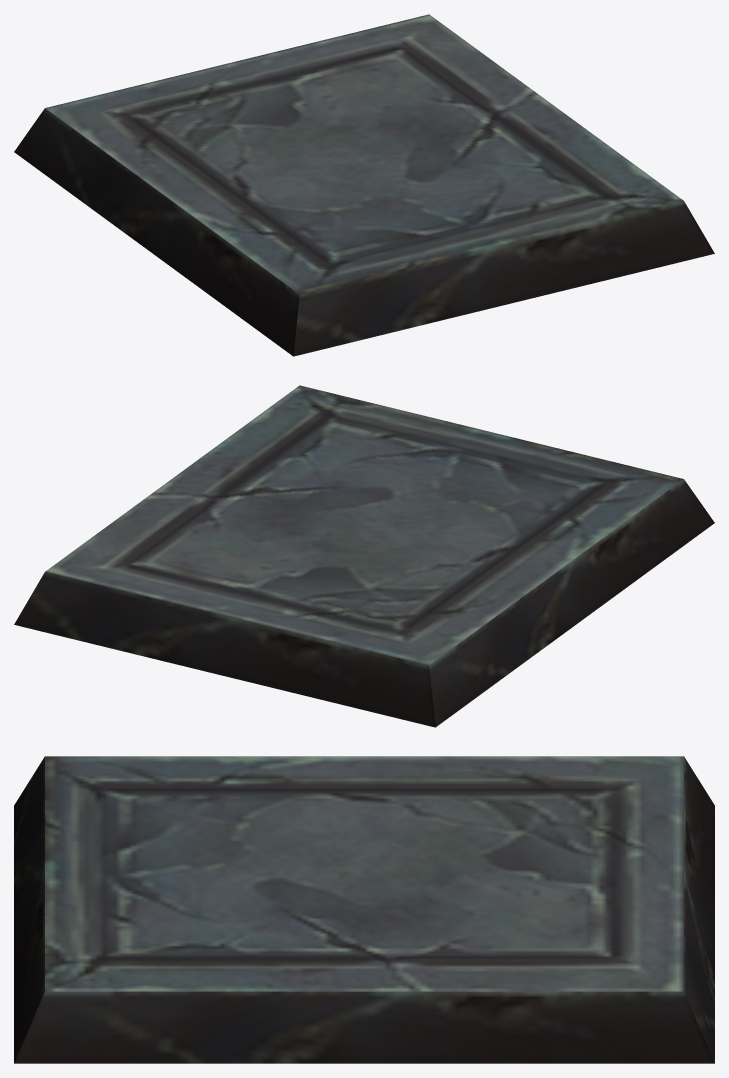
The model's file is B_shizhuan004.fbx.
3 views of the same model, one above another, from view 1: azimuth 30°, elevation 25°; view 2: azimuth 150°, elevation 25°; view 3: azimuth 270°, elevation 25° (orthographic). The views are drawn at different scales.
Visible parts, largest first — view 1: B_shizhuan004; view 2: B_shizhuan004; view 3: B_shizhuan004.
Part boxes in pixels (x1=…): B_shizhuan004: x1=14, y1=14, x2=714, y2=356; B_shizhuan004: x1=14, y1=385, x2=714, y2=727; B_shizhuan004: x1=14, y1=756, x2=714, y2=1063.
Size of the model in its own units: 91.73 by 10.07 by 105.
